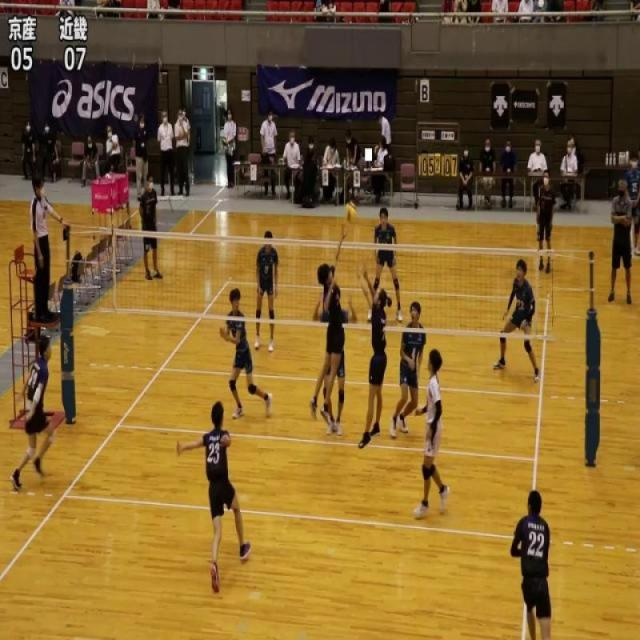volleyball: (344, 200, 357, 225)
